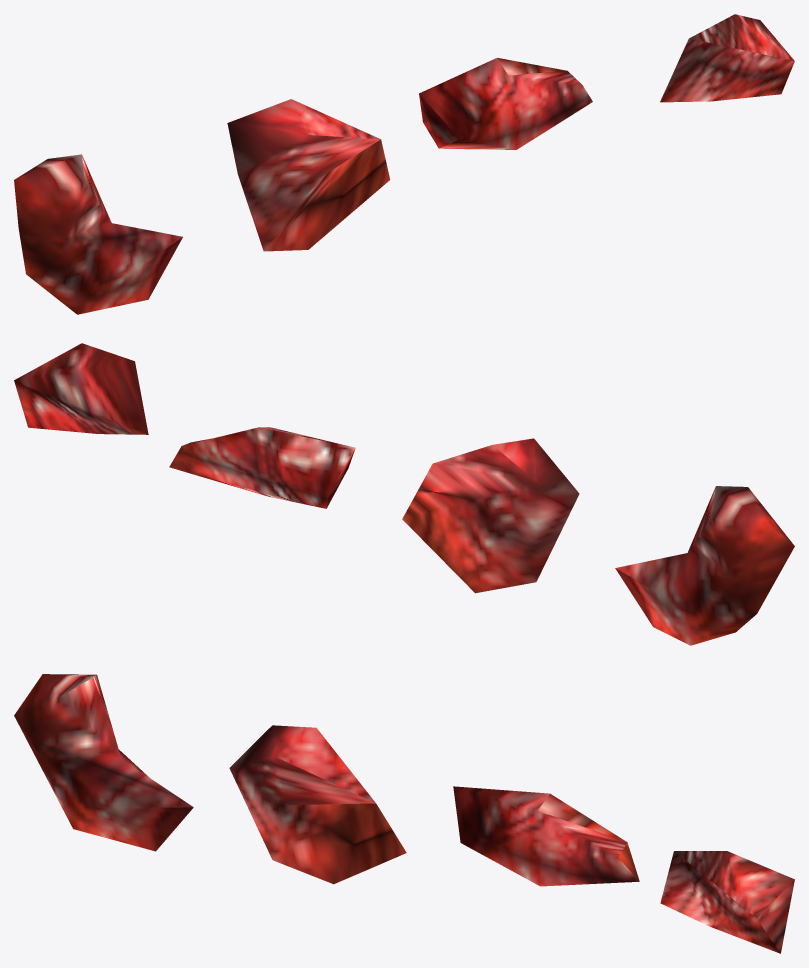
Rendered from OrganSplatter.fbx.
3 renders of one model, top to bottom at view 1: azimuth 30°, elevation 25°; view 2: azimuth 150°, elevation 25°; view 3: azimuth 330°, elevation 25°, orthographic.
Parts seen in each view (by area): view 1: Cylinder.005, Cylinder.002, Cylinder.001, Cylinder.003; view 2: Cylinder.005, Cylinder.002, Cylinder.001, Cylinder.003; view 3: Cylinder.005, Cylinder.002, Cylinder.001, Cylinder.003.
Part boxes in pixels (<box>): Cylinder.005: <box>227,99,390,251</box>; Cylinder.002: <box>14,154,182,314</box>; Cylinder.001: <box>419,57,592,149</box>; Cylinder.003: <box>660,14,794,102</box>; Cylinder.005: <box>402,438,579,593</box>; Cylinder.002: <box>615,486,794,645</box>; Cylinder.001: <box>169,427,355,508</box>; Cylinder.003: <box>14,343,148,434</box>; Cylinder.005: <box>229,725,406,884</box>; Cylinder.002: <box>14,674,193,851</box>; Cylinder.001: <box>453,786,639,886</box>; Cylinder.003: <box>660,851,794,953</box>.
Size of the model in its own units: 277 by 55.06 by 30.94.
